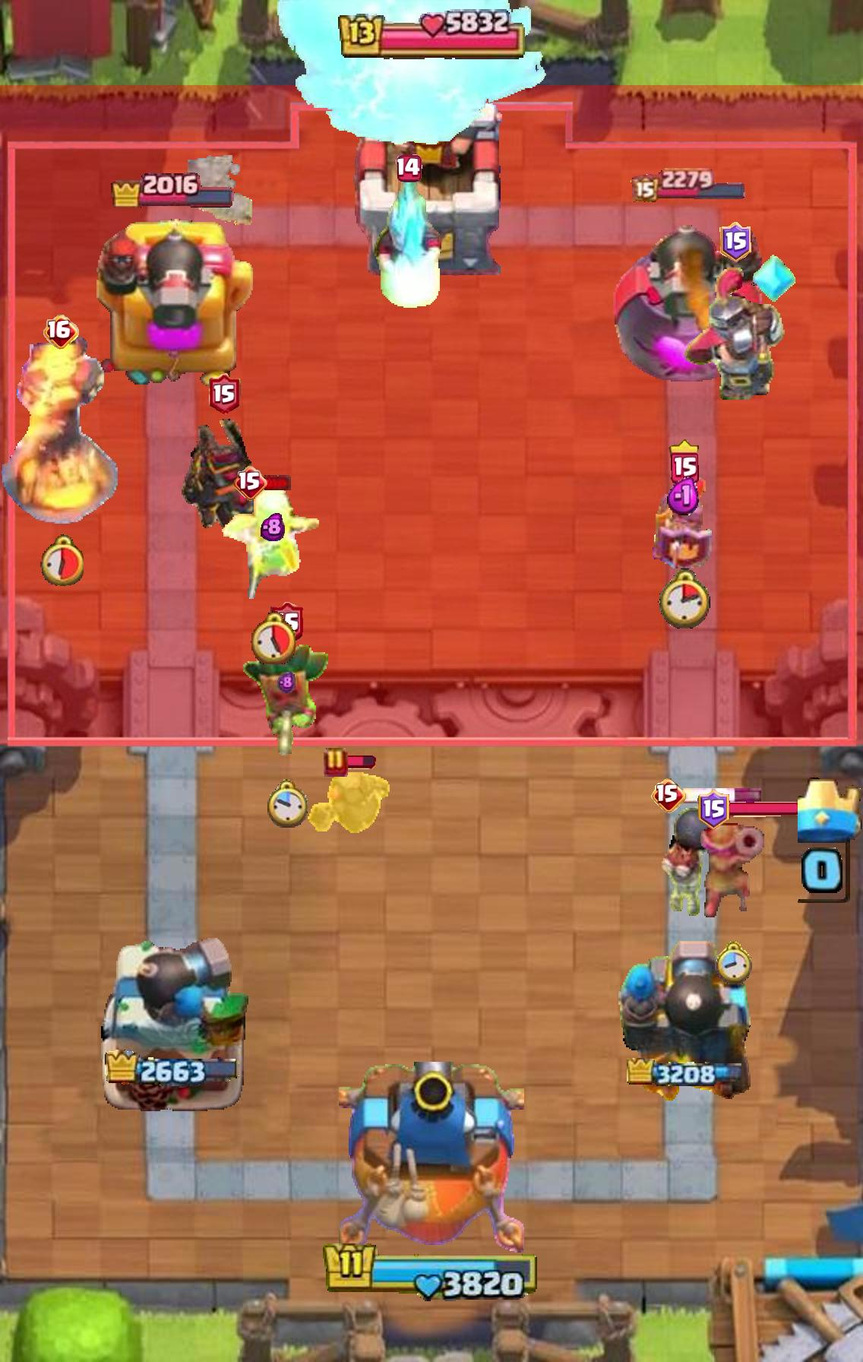bar: (683, 787, 763, 804), (726, 802, 799, 817), (264, 474, 293, 493), (345, 755, 376, 769)
bar-level: (271, 602, 303, 646), (669, 440, 699, 485), (209, 373, 241, 414), (719, 222, 751, 262), (43, 315, 79, 350), (698, 790, 730, 829), (651, 778, 686, 813), (234, 466, 268, 501), (395, 155, 422, 183), (324, 747, 348, 778)
